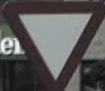Give way: (1, 2, 98, 83)
